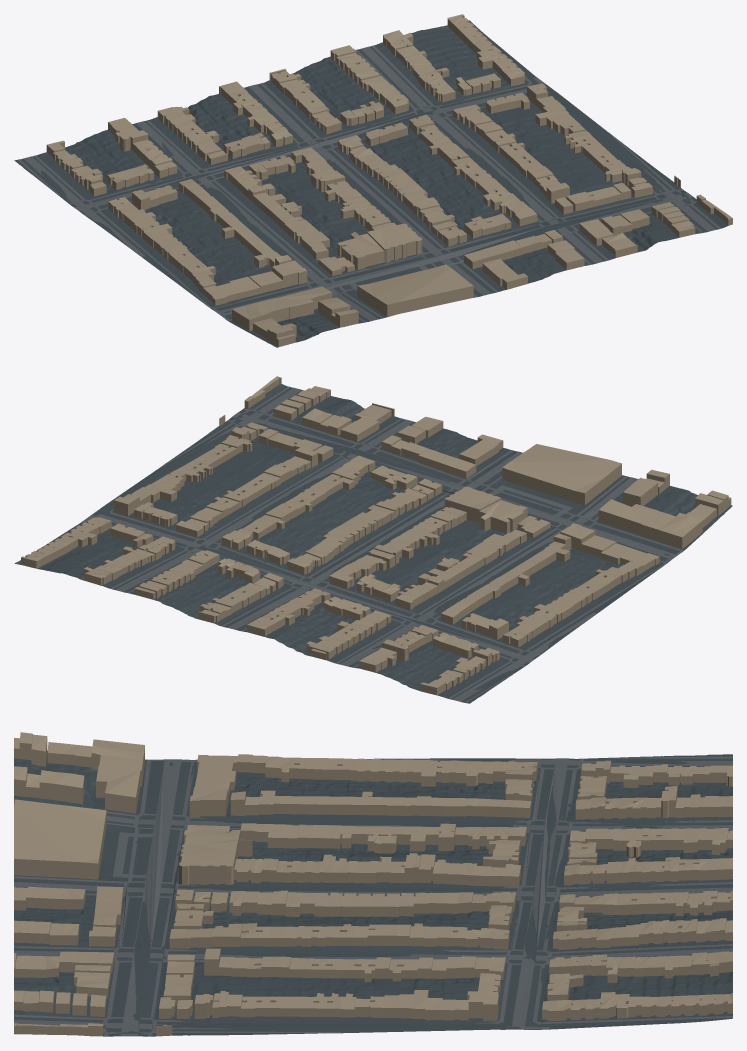
File: epsg26910-1419-10881.lod0.glb
The picture shows the model from 3 angles, top to bottom: view 1: azimuth 30°, elevation 25°; view 2: azimuth 150°, elevation 25°; view 3: azimuth 270°, elevation 25°; orthographic projection. The views are drawn at different scales.
Visible parts, largest first — view 1: epsg26910-1419-10881-lod0; view 2: epsg26910-1419-10881-lod0; view 3: epsg26910-1419-10881-lod0.
Part boxes in pixels (x1,y1,x2,y2): epsg26910-1419-10881-lod0: [14, 14, 732, 347]; epsg26910-1419-10881-lod0: [14, 376, 732, 703]; epsg26910-1419-10881-lod0: [14, 732, 732, 1036].
Size of the model in its own units: 384 by 32.99 by 384.
